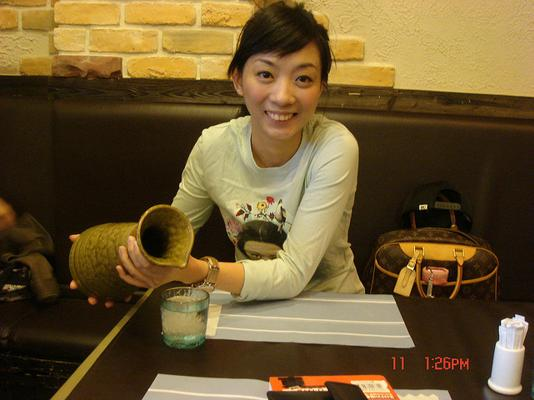person: (68, 6, 366, 308)
